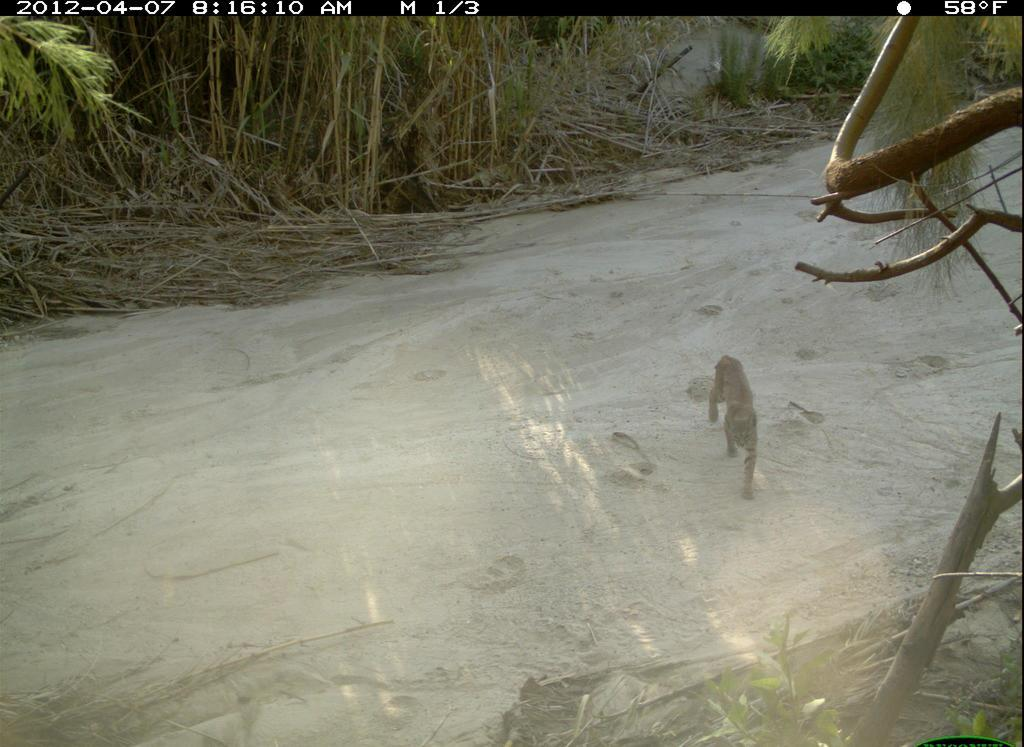bobcat: (699, 350, 770, 509)
